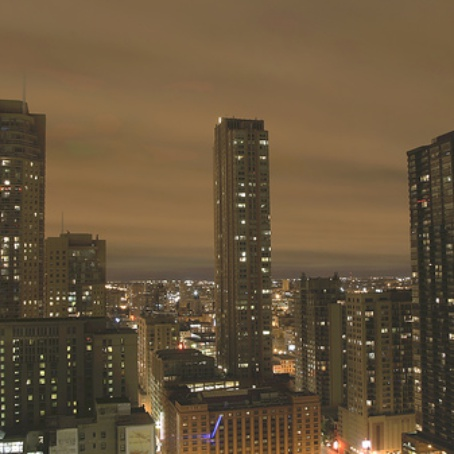building: (209, 111, 280, 383), (1, 315, 133, 454), (403, 136, 454, 454), (338, 283, 415, 440), (163, 383, 320, 454), (1, 99, 47, 320), (289, 272, 348, 422), (43, 236, 105, 320)
sky: (54, 1, 454, 255)
